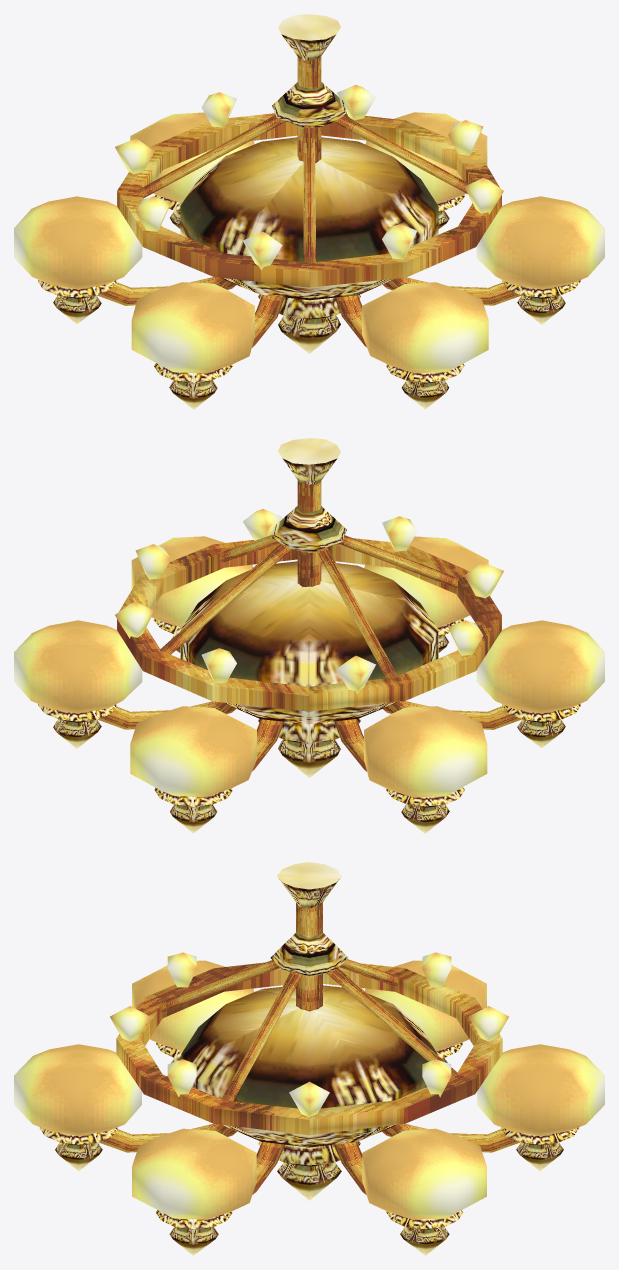
File: a-ligh-1-5.glb
The picture shows the model from 3 angles, top to bottom: view 1: azimuth 30°, elevation 25°; view 2: azimuth 150°, elevation 25°; view 3: azimuth 270°, elevation 25°; orthographic projection.
Parts seen in each view (by area): view 1: a_ligh_1; view 2: a_ligh_1; view 3: a_ligh_1.
Boxes of the visible parts, box(x1,y1,x2,y2) form: a_ligh_1: box(14, 14, 604, 409); a_ligh_1: box(14, 438, 604, 833); a_ligh_1: box(14, 862, 604, 1255).
Size of the model in its own units: 306 by 210 by 346.
Materials: 3 (3 with a texture image).
